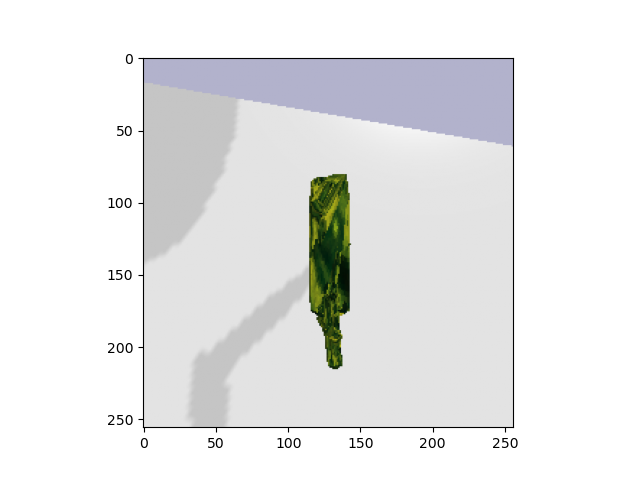v249b387_108: (295, 167, 369, 383)
